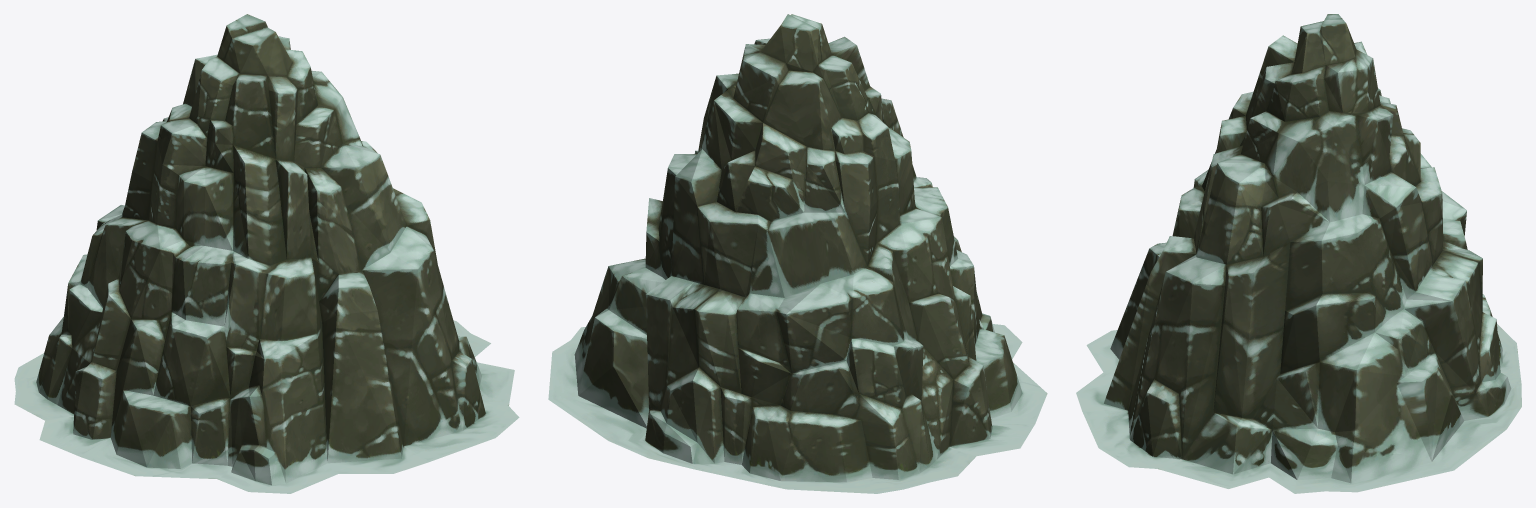
Rendered from zone01_ridge_01.fbx.
3 renders of one model, left to right at view 1: azimuth 30°, elevation 25°; view 2: azimuth 150°, elevation 25°; view 3: azimuth 270°, elevation 25°, orthographic. The views are drawn at different scales.
Visible parts, largest first — view 1: obj0.006; view 2: obj0.006; view 3: obj0.006.
Boxes of the visible parts, x1,y1,x2,y2 form: obj0.006: (14, 14, 519, 493); obj0.006: (548, 14, 1047, 493); obj0.006: (1076, 14, 1521, 493).
Size of the model in its own units: 27.09 by 21.52 by 23.87.
